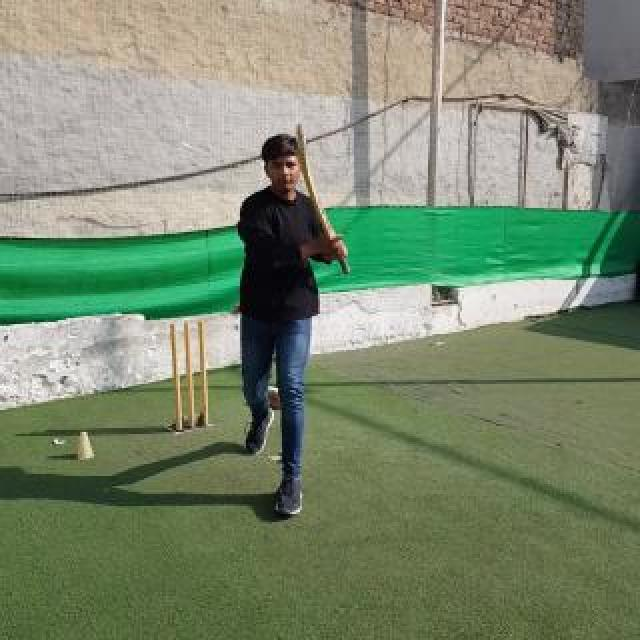bat: (296, 124, 352, 276)
